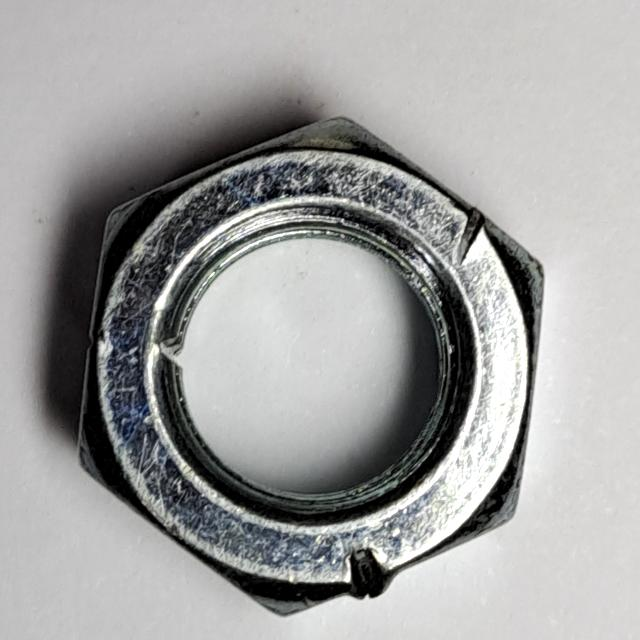Scratches: (70, 104, 553, 632)
